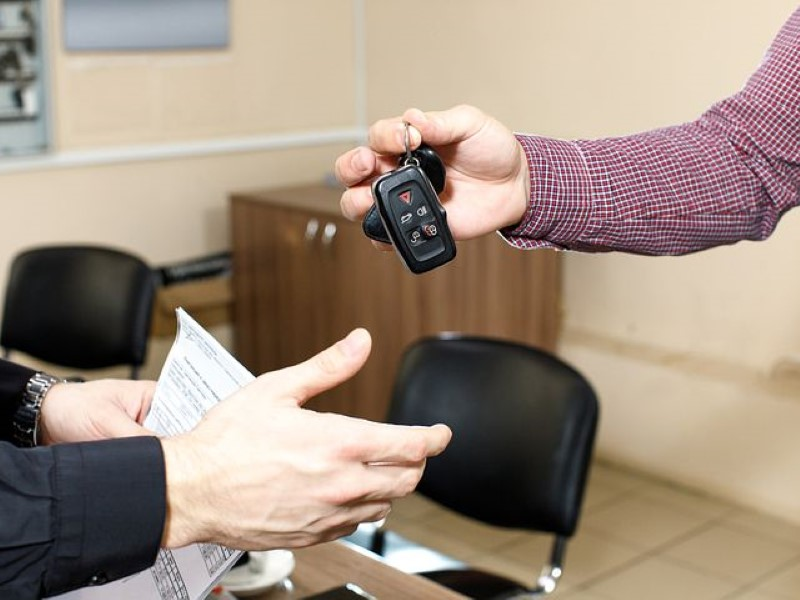carkey: (357, 137, 457, 272)
